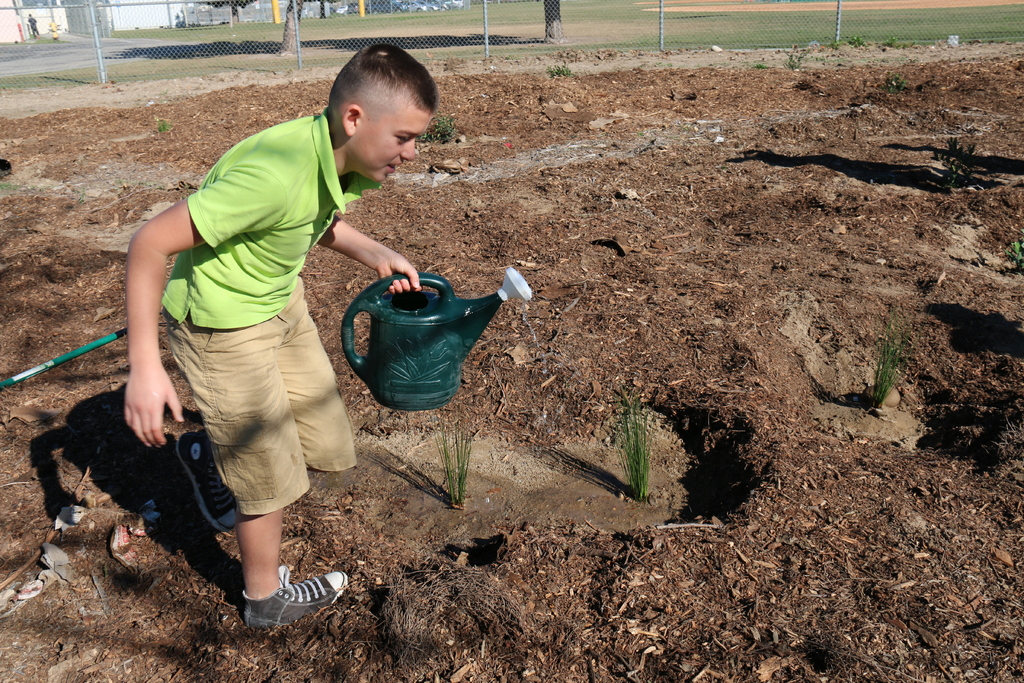Person: (123, 43, 438, 628)
